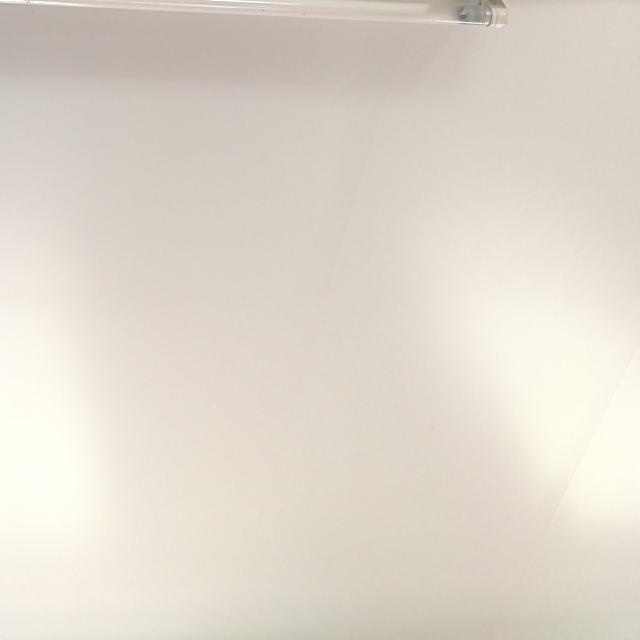fluorescent tube: (0, 0, 534, 65)
